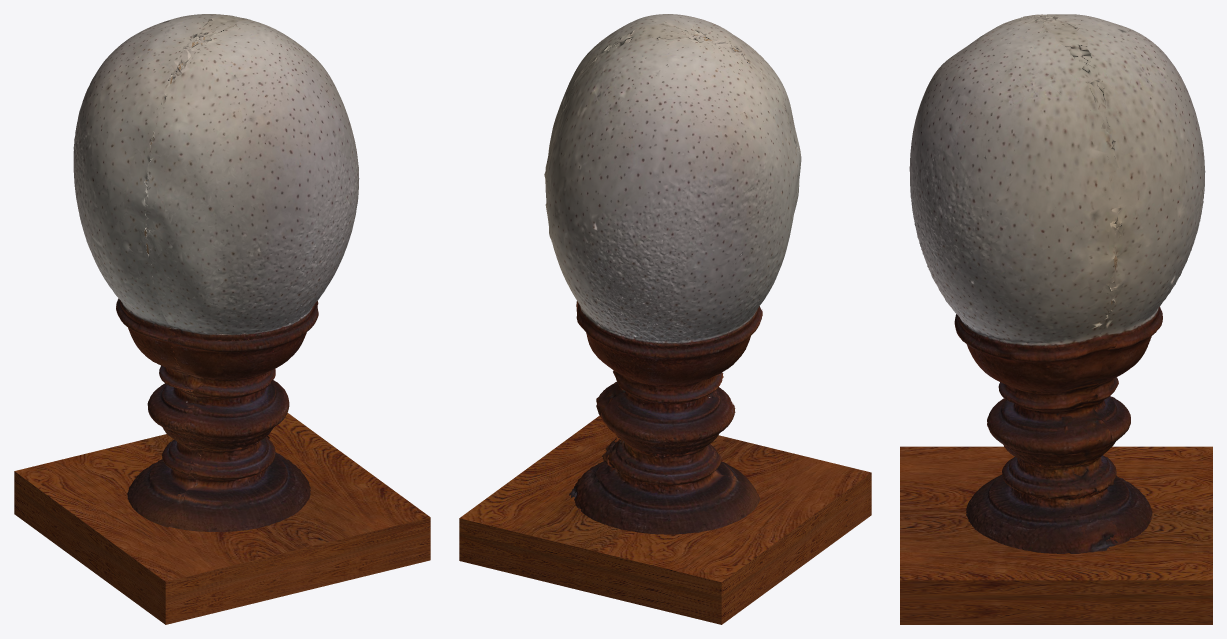
The model's file is egg.glb.
3 renders of one model, left to right at view 1: azimuth 30°, elevation 25°; view 2: azimuth 150°, elevation 25°; view 3: azimuth 270°, elevation 25°, orthographic. The views are drawn at different scales.
Visible parts, largest first — view 1: Straußenei_2026-06.001, Cube; view 2: Straußenei_2026-06.001, Cube; view 3: Straußenei_2026-06.001, Cube.
Part boxes in pixels (x1,y1,x2,y2): Straußenei_2026-06.001: (73, 14, 359, 532); Cube: (14, 412, 430, 624); Straußenei_2026-06.001: (544, 14, 801, 534); Cube: (459, 415, 871, 624); Straußenei_2026-06.001: (909, 14, 1205, 553); Cube: (900, 446, 1212, 624).
Bounding box in the file's own units: 0.9854 × 1.83 × 0.9751.
Materials: 3 (3 with a texture image).
